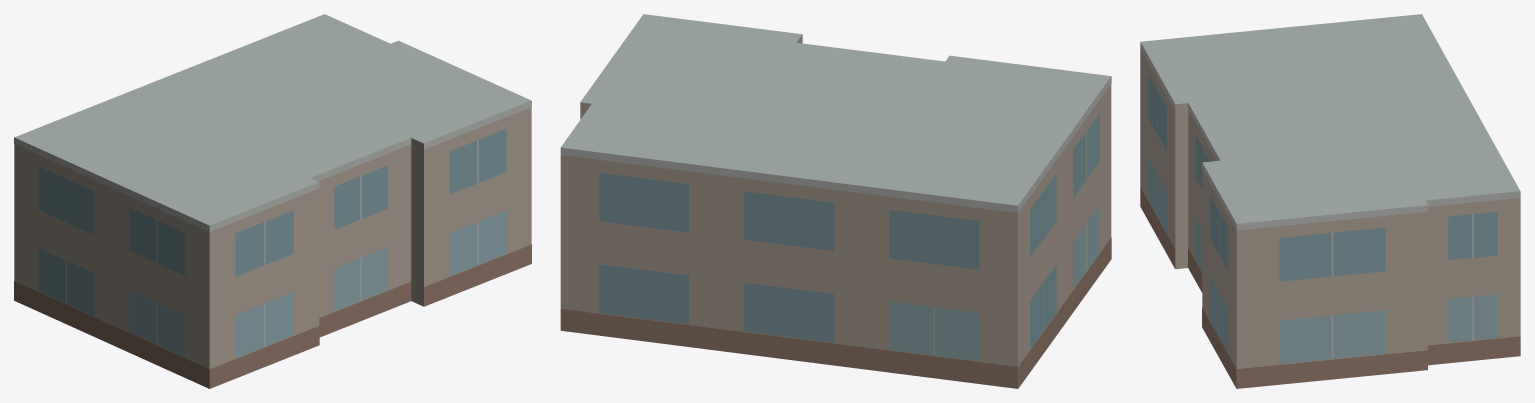
File: survey-upis-32914129.glb
3 views of the same model, side by side, from view 1: azimuth 30°, elevation 25°; view 2: azimuth 150°, elevation 25°; view 3: azimuth 270°, elevation 25° (orthographic). The views are drawn at different scales.
Visible parts, largest first — view 1: survey-upis-32914129.tmp; view 2: survey-upis-32914129.tmp; view 3: survey-upis-32914129.tmp.
Boxes of the visible parts, box(x1,y1,x2,y2) form: survey-upis-32914129.tmp: box(14, 14, 531, 388); survey-upis-32914129.tmp: box(560, 14, 1111, 388); survey-upis-32914129.tmp: box(1140, 14, 1520, 388).
Size of the model in its own units: 16.66 by 6.1 by 12.75.
